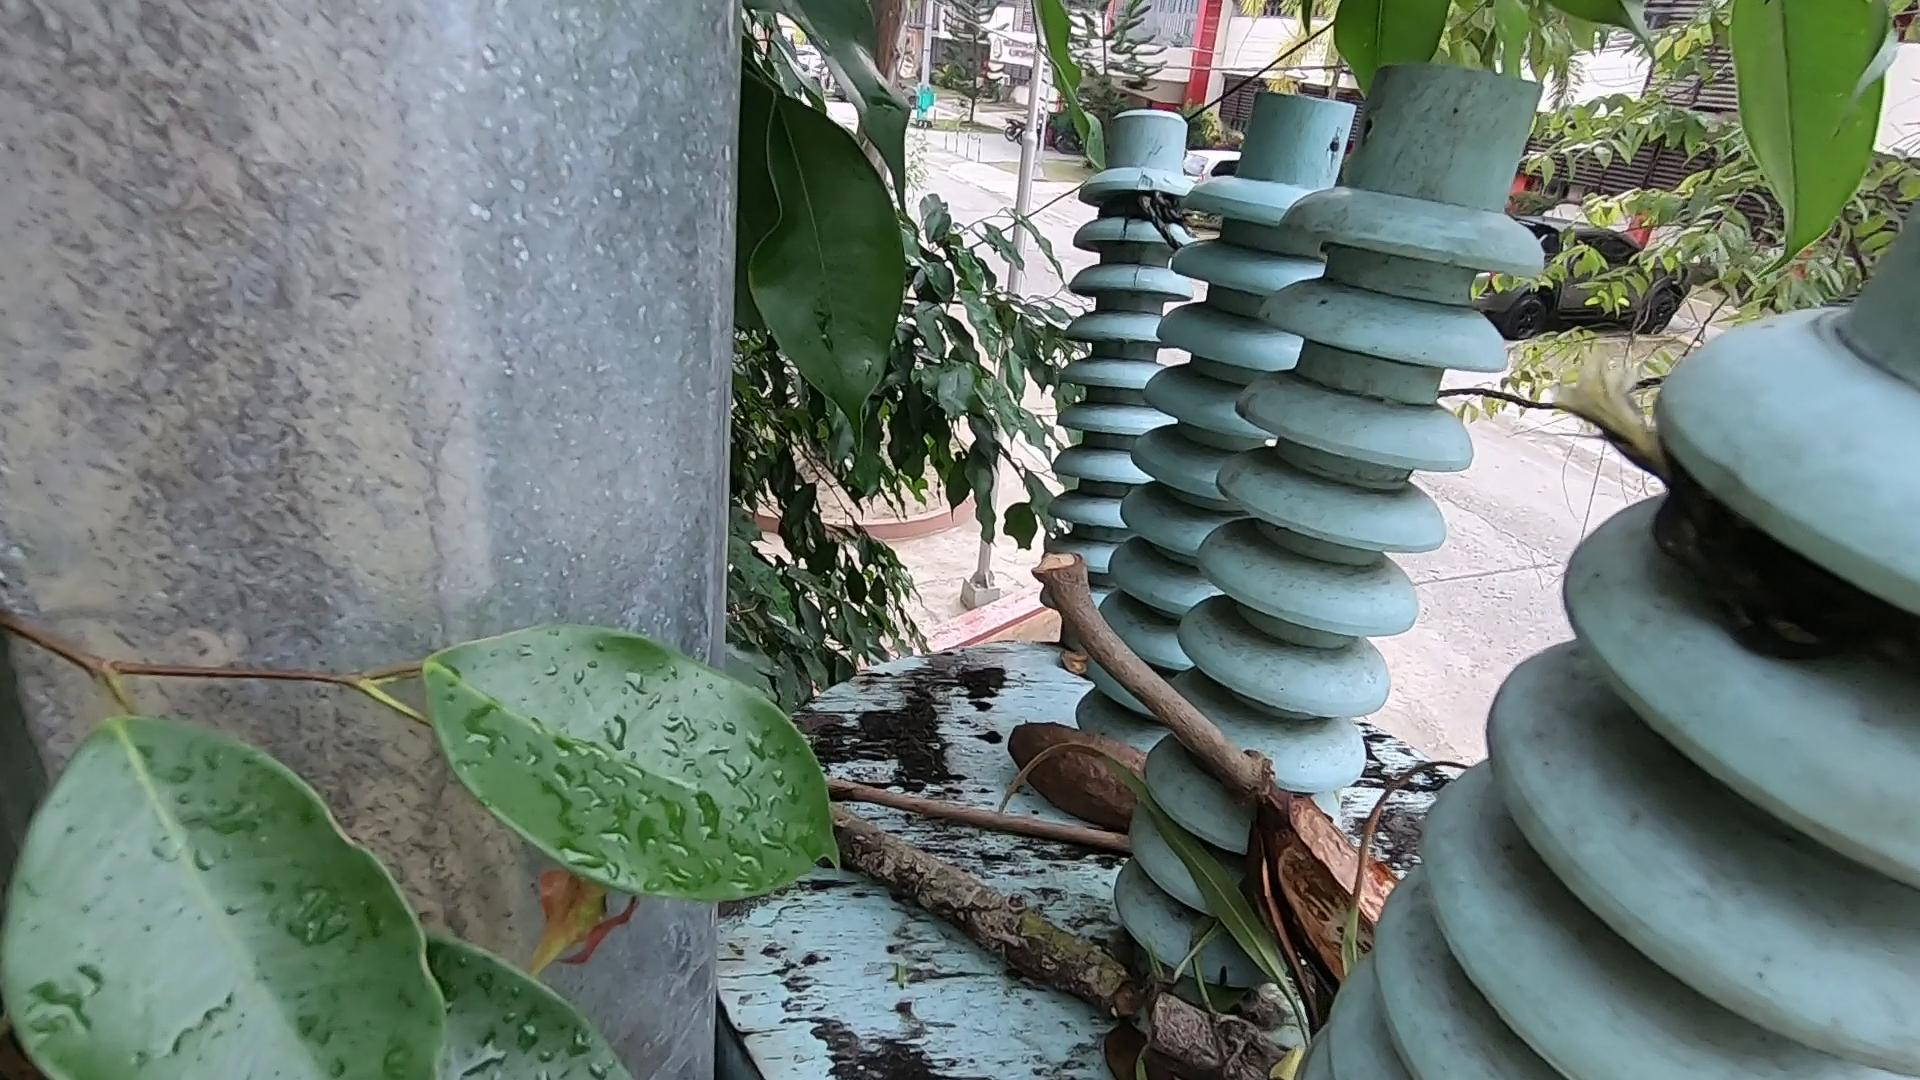branch with leaves: (824, 798, 1270, 1067)
leaf: (1154, 808, 1320, 1055)
mahogany fruit: (1031, 676, 1288, 928), (1228, 771, 1449, 1011)
tree branch: (1060, 556, 1283, 807), (831, 785, 1143, 853)
